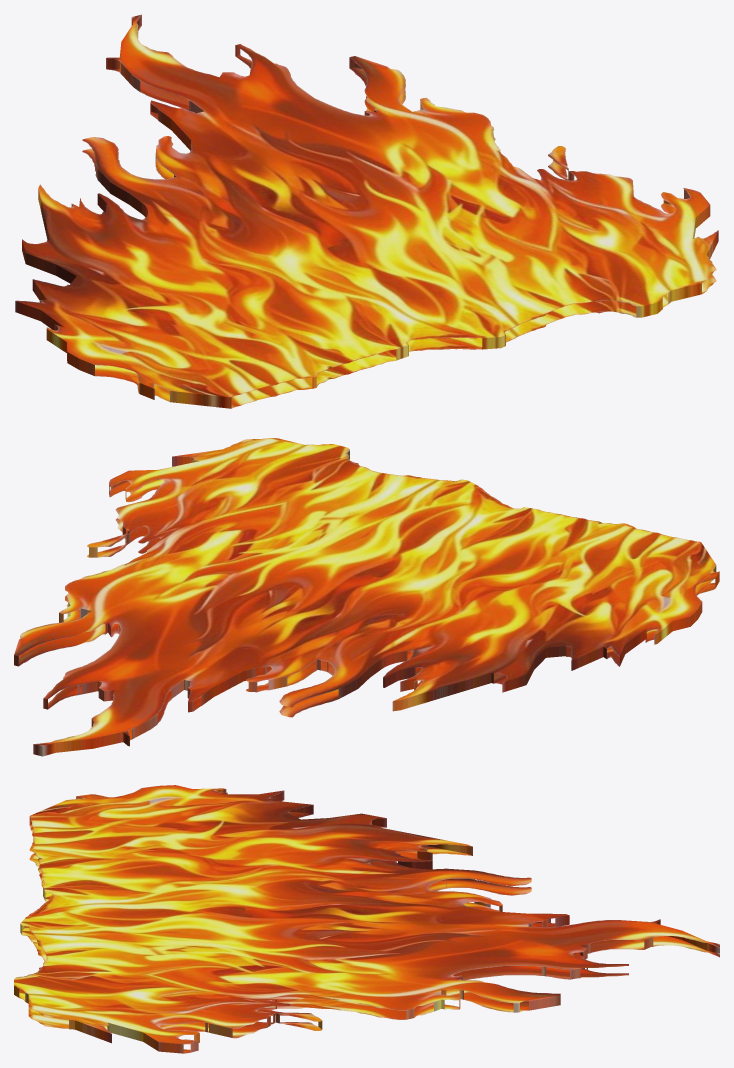
File: fire_hazard.dae
The picture shows the model from 3 angles, top to bottom: view 1: azimuth 30°, elevation 25°; view 2: azimuth 150°, elevation 25°; view 3: azimuth 270°, elevation 25°; orthographic projection. The views are drawn at different scales.
Parts seen in each view (by area): view 1: 火焰; view 2: 火焰; view 3: 火焰.
Boxes of the visible parts, x1=… form: 火焰: x1=15, y1=14, x2=718, y2=408; 火焰: x1=14, y1=438, x2=719, y2=756; 火焰: x1=14, y1=785, x2=719, y2=1053.
Bounding box in the file's own units: 0.0435 × 0.05 × 0.000732.
1 material, 1 textured.
